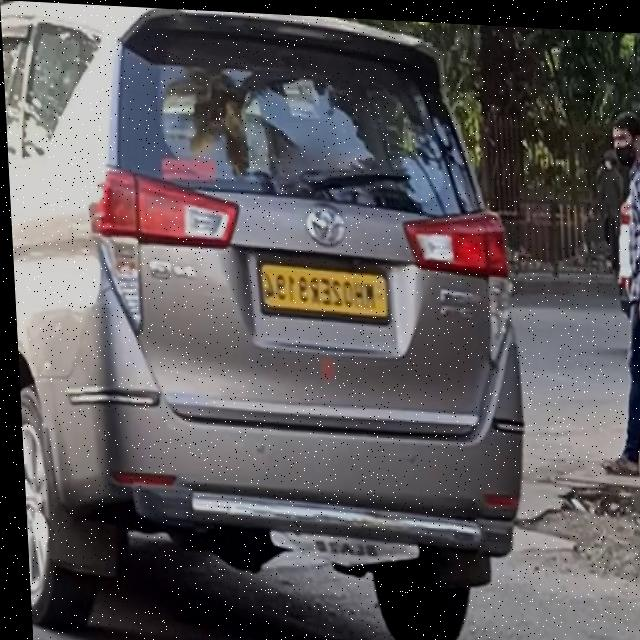plate: (247, 252, 393, 328)
